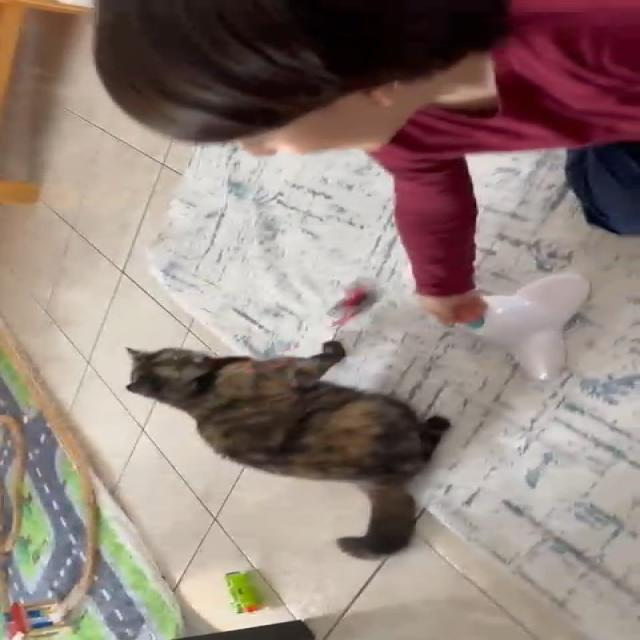authorized: (124, 340, 452, 559)
